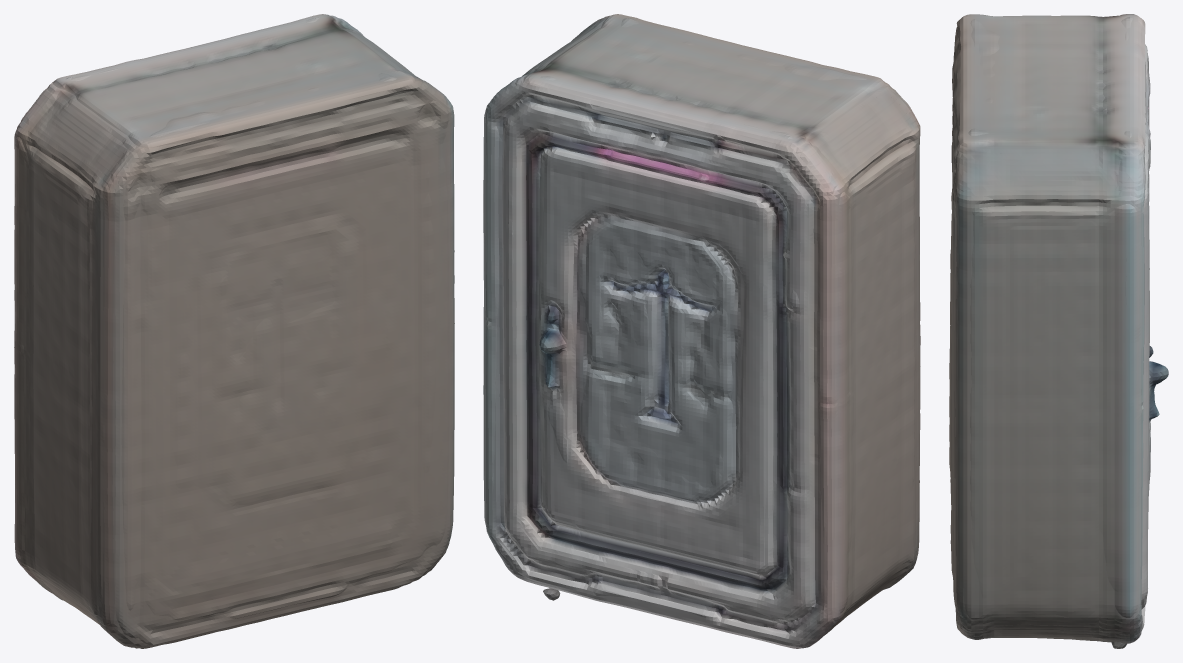
Rendered from room-11-trading-suite.glb.
The picture shows the model from 3 angles, left to right: view 1: azimuth 30°, elevation 25°; view 2: azimuth 150°, elevation 25°; view 3: azimuth 270°, elevation 25°; orthographic projection. The views are drawn at different scales.
Visible parts, largest first — view 1: world; view 2: world; view 3: world.
Boxes of the visible parts, box(x1,y1,x2,y2) form: world: box(14, 14, 454, 648); world: box(483, 14, 920, 648); world: box(949, 14, 1168, 648).
Bounding box in the file's own units: 0.7149 × 1 × 0.3867.
